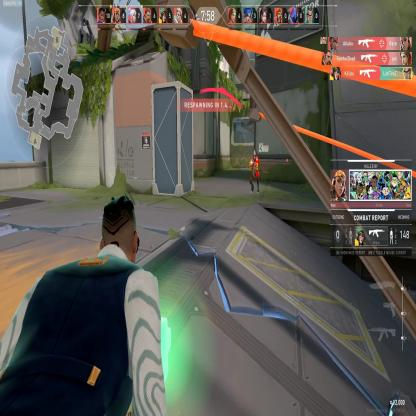enemy: (248, 148, 260, 194)
